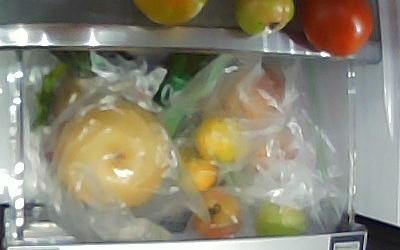peach_vinyl: (222, 67, 286, 123)
pear_vinyl: (58, 100, 168, 207)
tangerine_vinyl: (195, 117, 241, 163), (177, 147, 215, 191)
tomato_vinyl: (191, 189, 241, 237), (254, 201, 304, 237)
